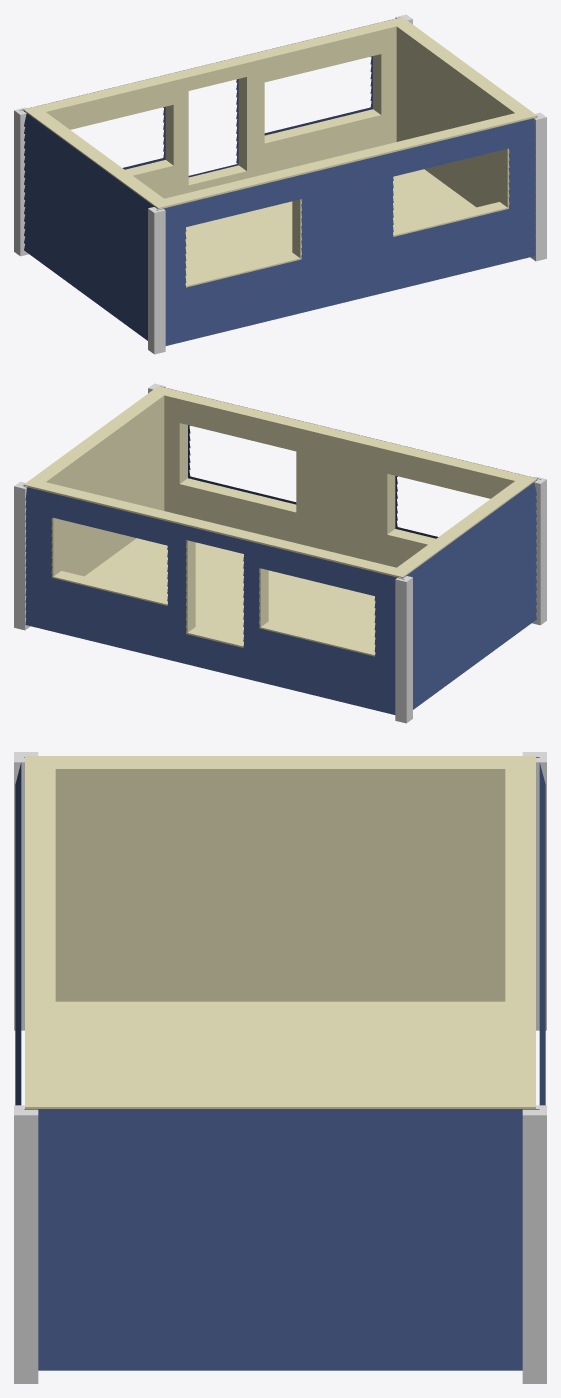
File: house2.fbx
The picture shows the model from 3 angles, top to bottom: view 1: azimuth 30°, elevation 25°; view 2: azimuth 150°, elevation 25°; view 3: azimuth 270°, elevation 25°; orthographic projection. The views are drawn at different scales.
Parts seen in each view (by area): view 1: Cube.013; view 2: Cube.013; view 3: Cube.013.
Part boxes in pixels (x1=…): Cube.013: x1=14, y1=14, x2=546, y2=354; Cube.013: x1=14, y1=383, x2=546, y2=723; Cube.013: x1=14, y1=752, x2=546, y2=1383.
Size of the model in its own units: 1347 by 468 by 835.
